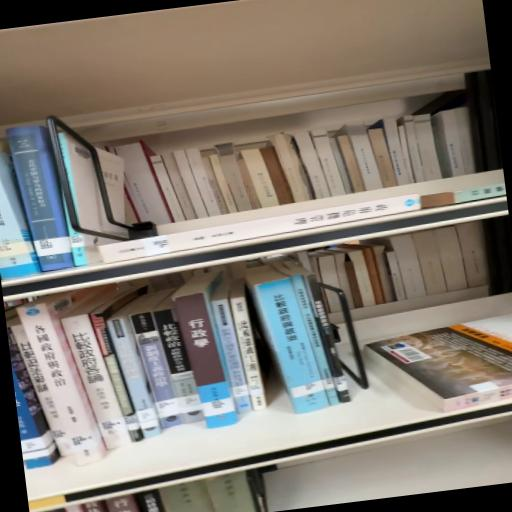flat: (99, 195, 422, 264)
